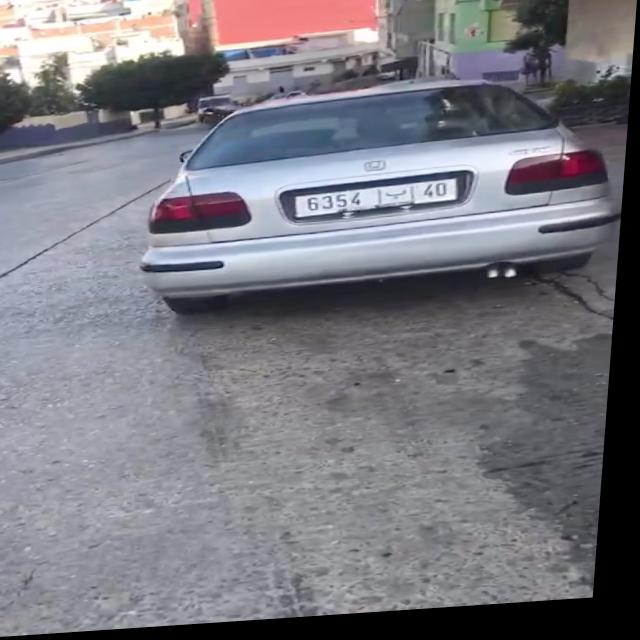License-Plate: (299, 186, 461, 222)
